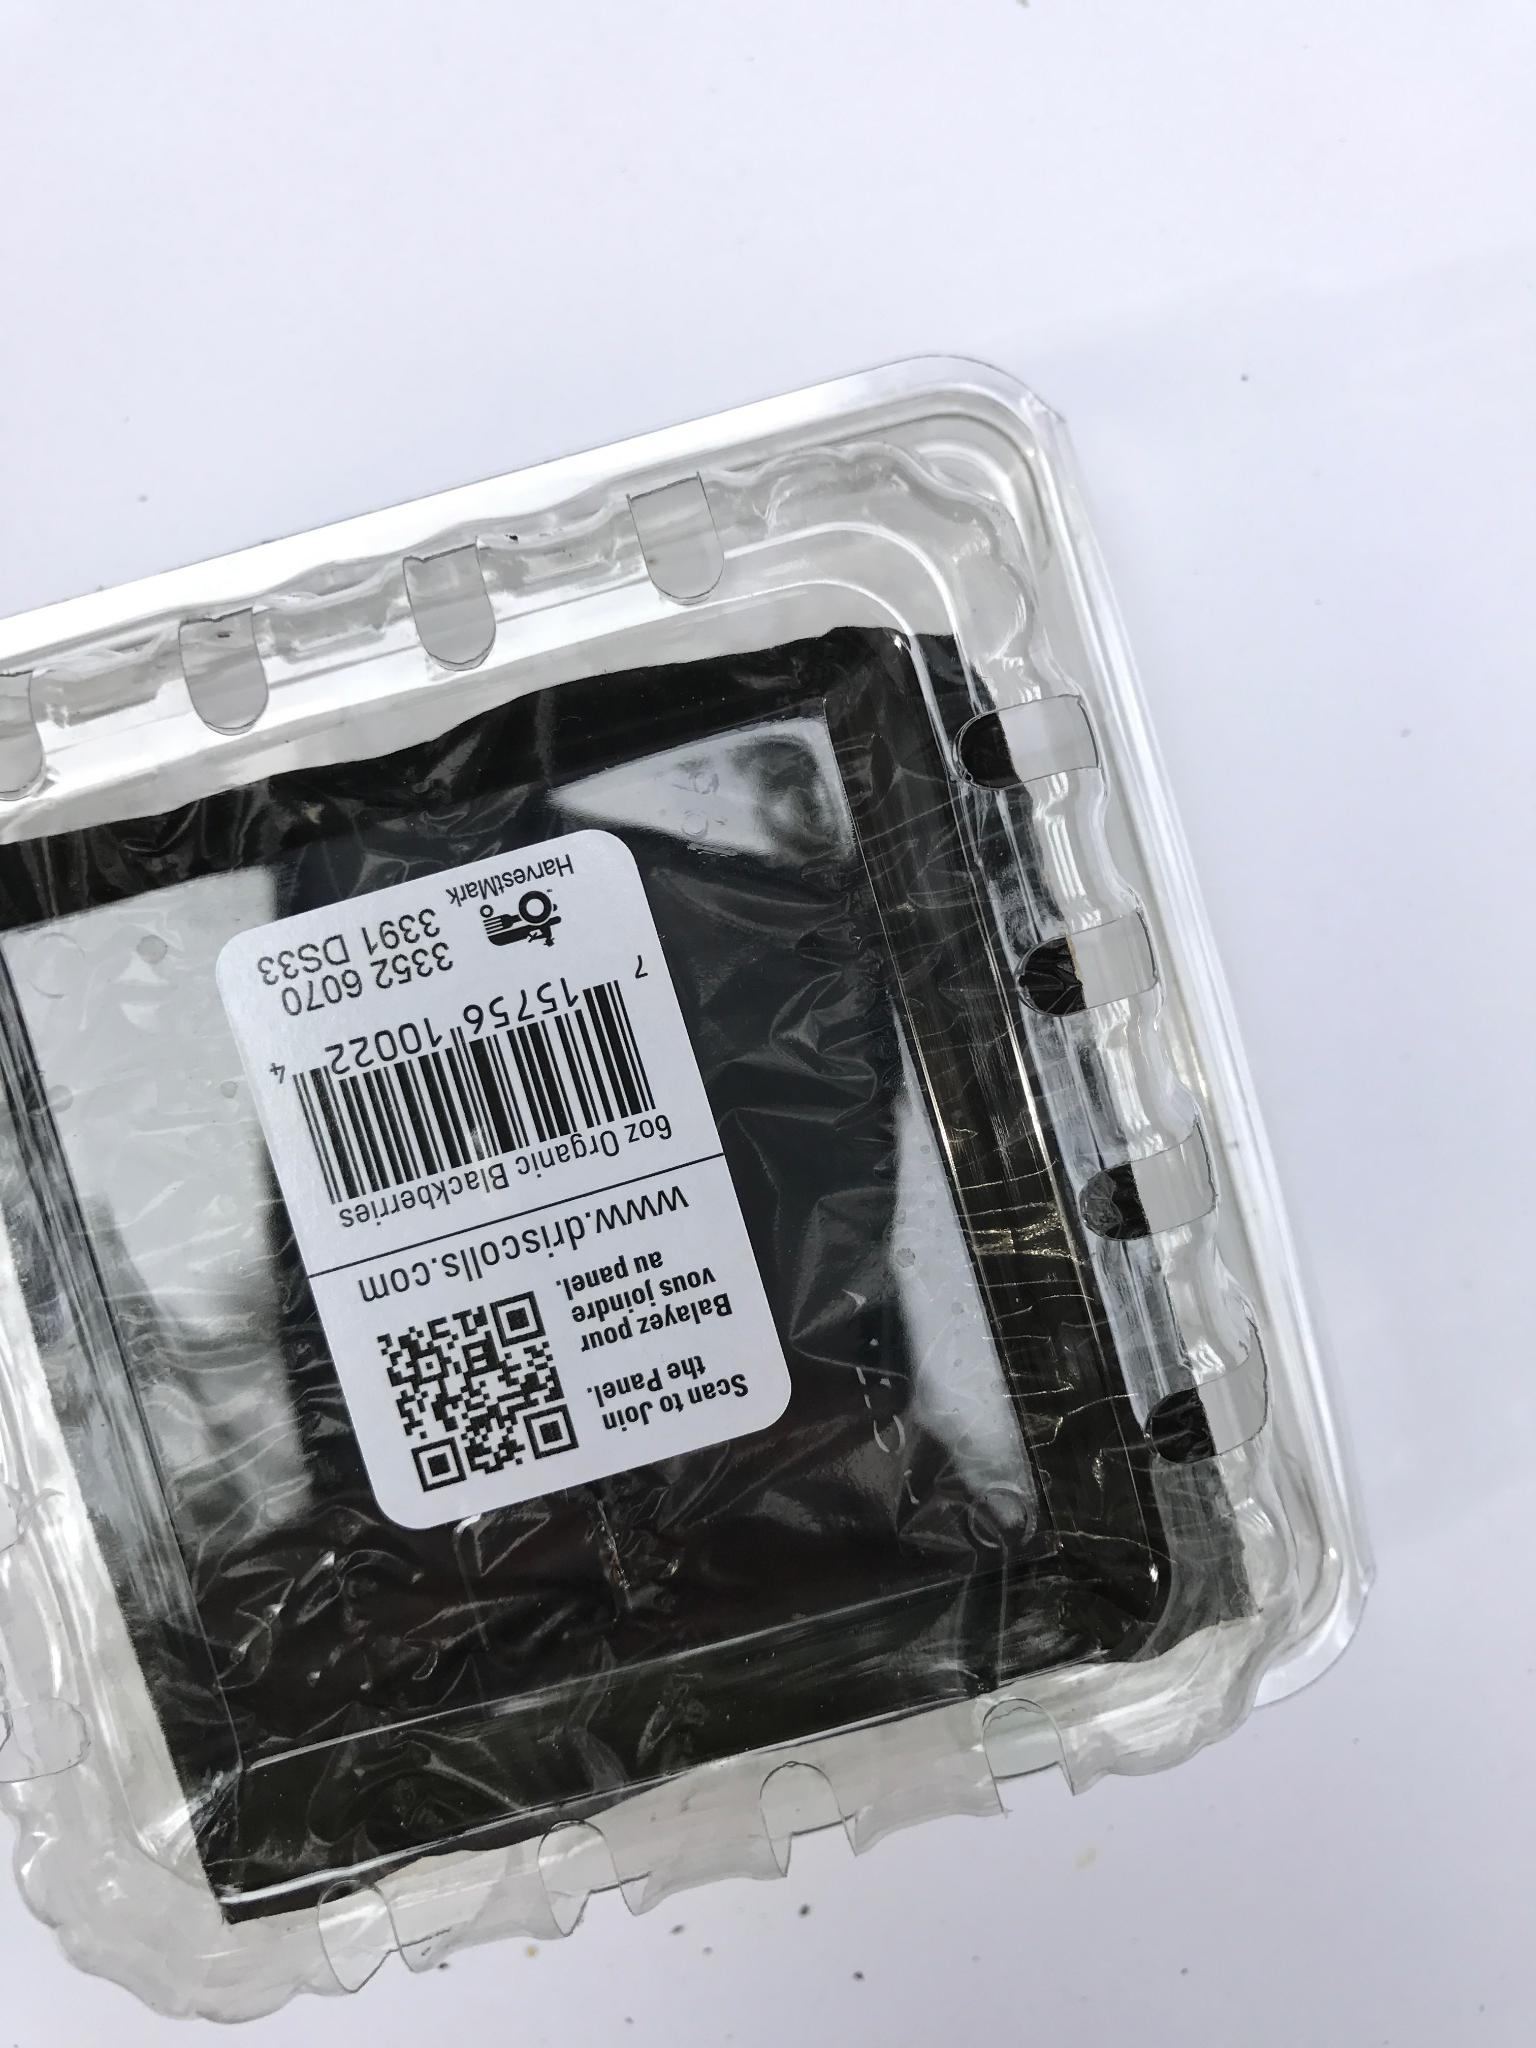Plastic: (0, 323, 1394, 2046)
